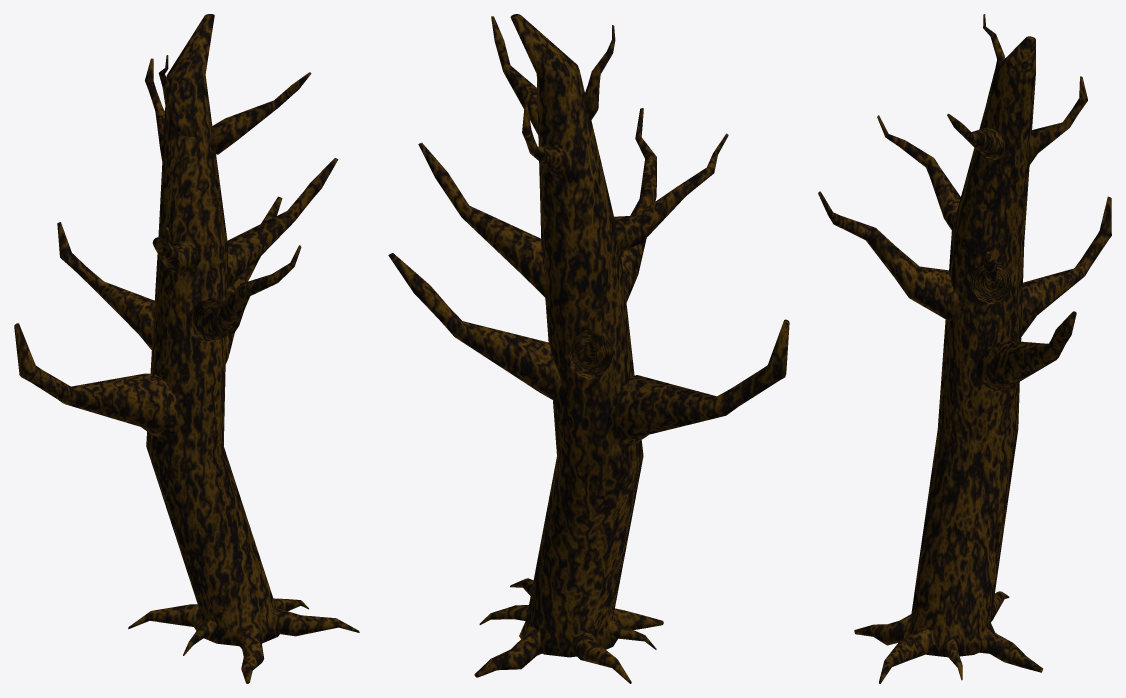
The model's file is josh.obj.
3 views of the same model, side by side, from view 1: azimuth 30°, elevation 25°; view 2: azimuth 150°, elevation 25°; view 3: azimuth 270°, elevation 25° (orthographic). The views are drawn at different scales.
Visible parts, largest first — view 1: Tree; view 2: Tree; view 3: Tree.
Boxes of the visible parts, left/top/right/bottom form: Tree: left=14, top=14, right=359, bottom=683; Tree: left=388, top=14, right=789, bottom=683; Tree: left=818, top=14, right=1111, bottom=683.
Size of the model in its own units: 9.76 by 16.96 by 7.29.
Materials: 1 (1 with a texture image).
